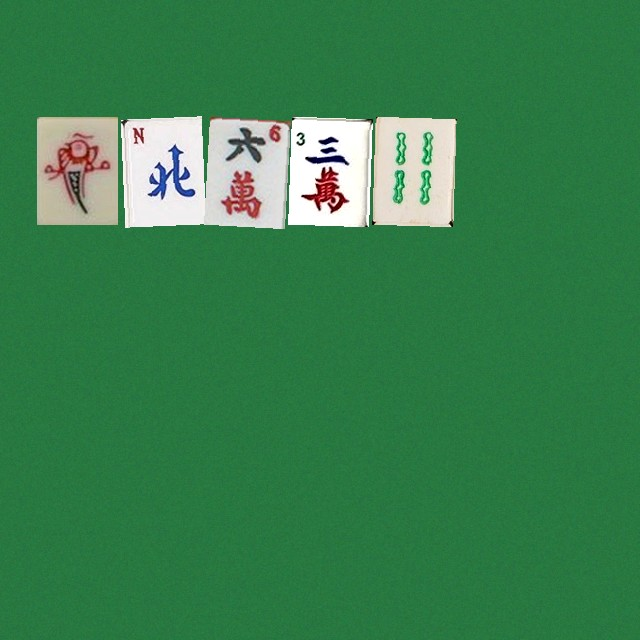tile: (36, 116, 117, 224), (120, 116, 201, 224), (204, 116, 285, 224), (288, 116, 369, 224), (372, 116, 453, 224)
